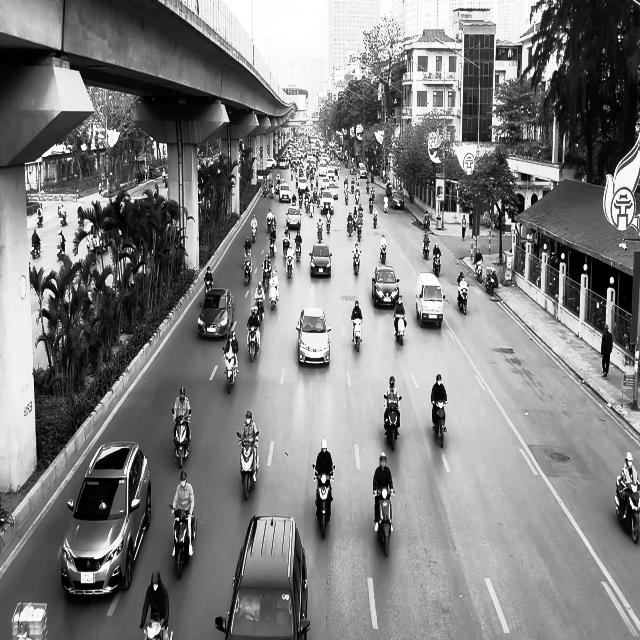car: (61, 440, 152, 598), (215, 514, 310, 639), (296, 306, 332, 366), (198, 287, 235, 339), (415, 272, 446, 328), (372, 265, 400, 309), (310, 243, 332, 277), (286, 206, 302, 228), (391, 190, 405, 210)
motorbike: (169, 504, 197, 579), (615, 474, 640, 543), (313, 464, 335, 539), (237, 430, 260, 500), (374, 487, 394, 557), (172, 407, 192, 468), (384, 393, 402, 451), (222, 346, 239, 394), (432, 399, 448, 448), (247, 323, 261, 362), (393, 310, 407, 346), (352, 316, 363, 352), (458, 282, 470, 315), (485, 267, 498, 296), (432, 252, 442, 277), (353, 249, 362, 275), (31, 239, 41, 258), (422, 238, 430, 260), (475, 261, 483, 283), (380, 244, 387, 264), (205, 279, 213, 295), (373, 208, 378, 228)
